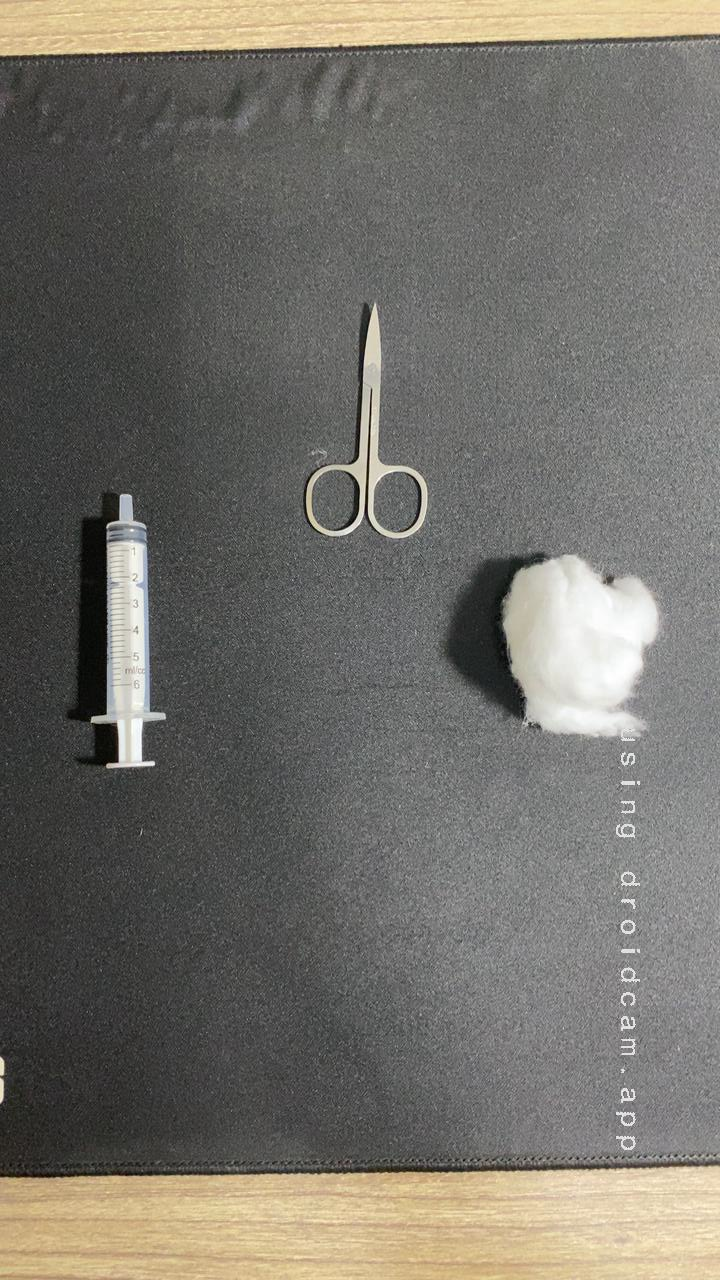cotton: (465, 531, 693, 751)
scissor: (285, 291, 445, 549)
syringe: (54, 483, 194, 784)
